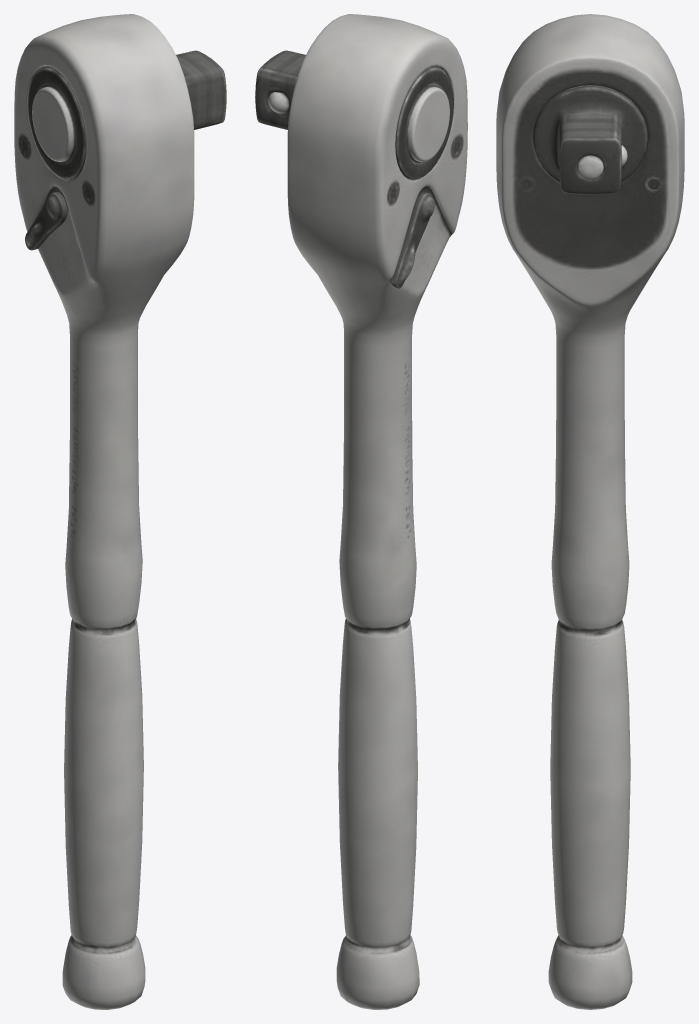
The model's file is ratchet.glb.
3 views of the same model, side by side, from view 1: azimuth 30°, elevation 25°; view 2: azimuth 150°, elevation 25°; view 3: azimuth 270°, elevation 25° (orthographic).
Visible parts, largest first — view 1: ratchet_wrench; view 2: ratchet_wrench; view 3: ratchet_wrench.
Boxes of the visible parts, box(x1,y1,x2,y2) form: ratchet_wrench: box(14, 14, 226, 1009); ratchet_wrench: box(255, 14, 467, 1009); ratchet_wrench: box(496, 14, 684, 1009).
Size of the model in its own units: 0.0441 by 0.2462 by 0.0434.
Materials: 1 (1 with a texture image).
